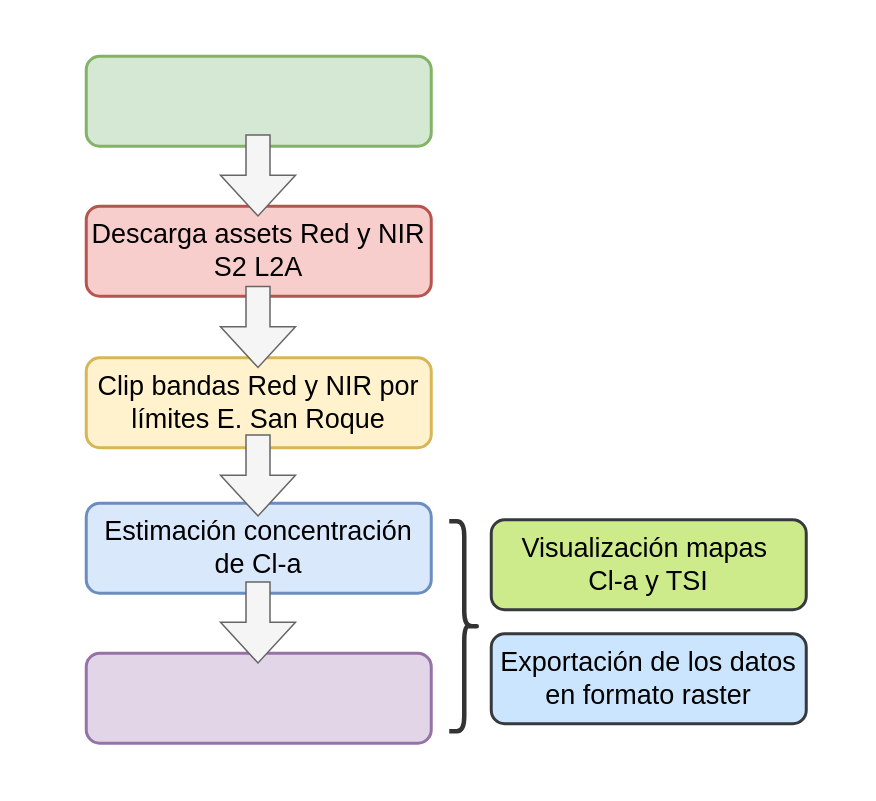
Some shapes in this 876 by 801 pixel diagram are drawn without their labels. Each missing label, with the centre of its shape:
Cómputo TSI y categorización: [258,697]
Exploración Catálogo Earth Search vía STAC API: [258,100]
